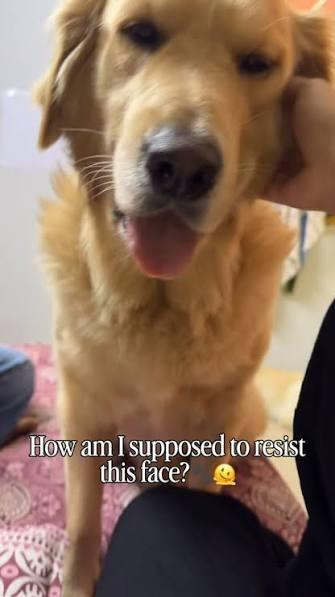adult_dog: (35, 1, 335, 596)
